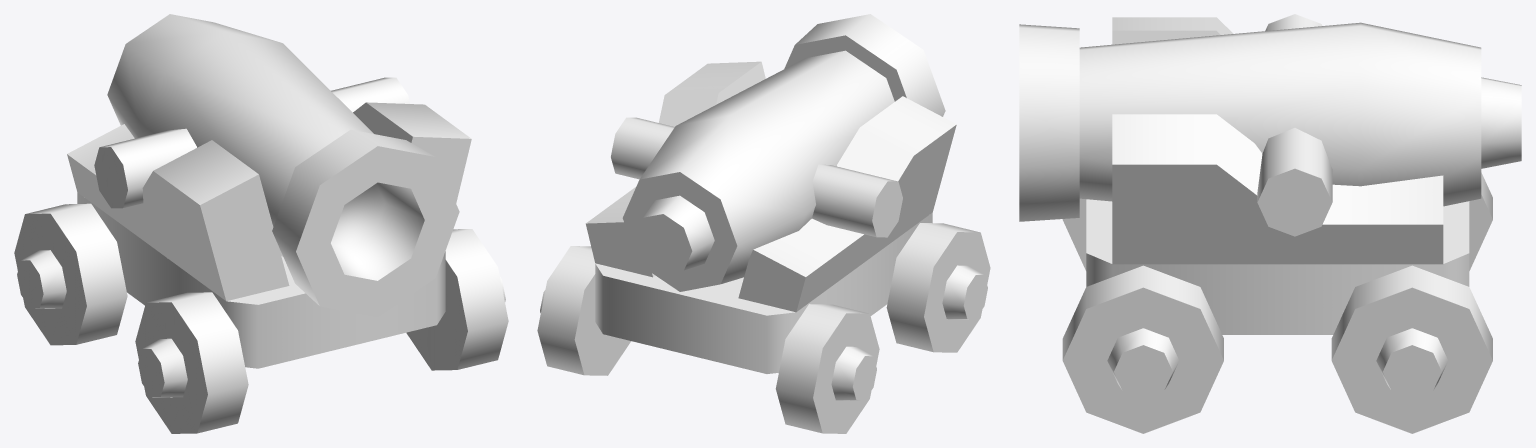
The model's file is cannon-mobile.glb.
3 views of the same model, side by side, from view 1: azimuth 30°, elevation 25°; view 2: azimuth 150°, elevation 25°; view 3: azimuth 270°, elevation 25° (orthographic). The views are drawn at different scales.
Visible parts, largest first — view 1: cannon-mobile, Group (×2); view 2: cannon-mobile, Group (×2); view 3: cannon-mobile, Group (×2).
Boxes of the visible parts, left/top/right/bottom form: cannon-mobile: left=14, top=14, right=508, bottom=433; Group (×2): left=67, top=102, right=471, bottom=301; cannon-mobile: left=537, top=14, right=990, bottom=433; Group (×2): left=585, top=61, right=956, bottom=312; cannon-mobile: left=1019, top=14, right=1521, bottom=433; Group (×2): left=1112, top=17, right=1443, bottom=264.
Bounding box in the file's own units: 1.68 × 1.38 × 1.92.
1 material, 1 textured.
